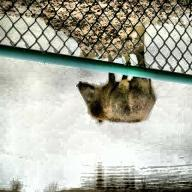boar: (82, 55, 184, 135)
